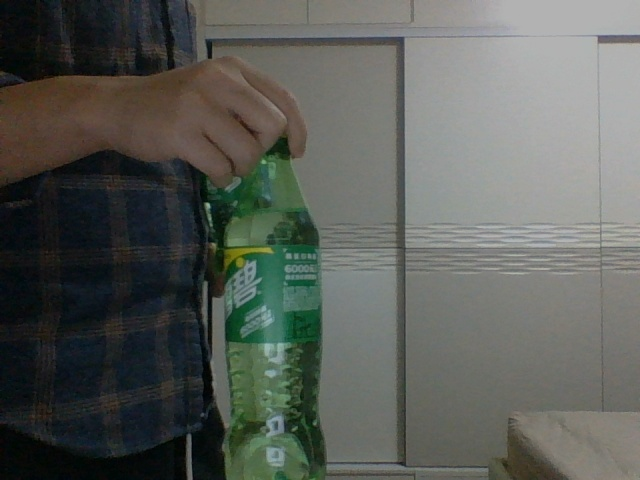Sprite: (222, 138, 329, 477)
